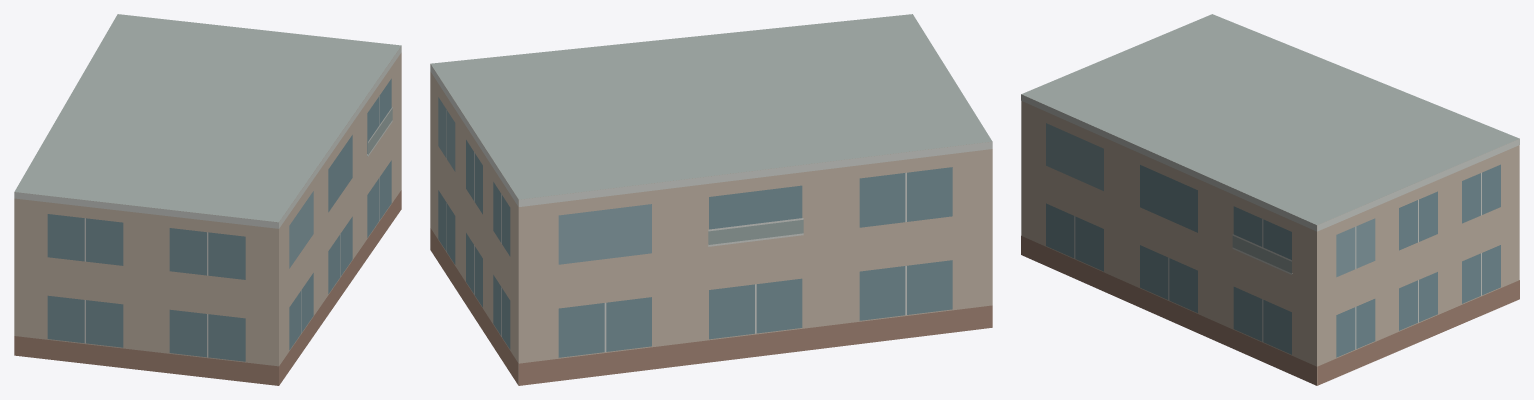
File: survey-upis-32931663.glb
The picture shows the model from 3 angles, left to right: view 1: azimuth 30°, elevation 25°; view 2: azimuth 150°, elevation 25°; view 3: azimuth 270°, elevation 25°; orthographic projection. The views are drawn at different scales.
Parts seen in each view (by area): view 1: survey-upis-32931663.tmp; view 2: survey-upis-32931663.tmp; view 3: survey-upis-32931663.tmp.
Part boxes in pixels (x1=…): survey-upis-32931663.tmp: x1=14, y1=14, x2=401, y2=385; survey-upis-32931663.tmp: x1=430, y1=14, x2=992, y2=385; survey-upis-32931663.tmp: x1=1021, y1=14, x2=1519, y2=385.
Bounding box in the file's own units: 17.21 × 6.1 × 17.17.
